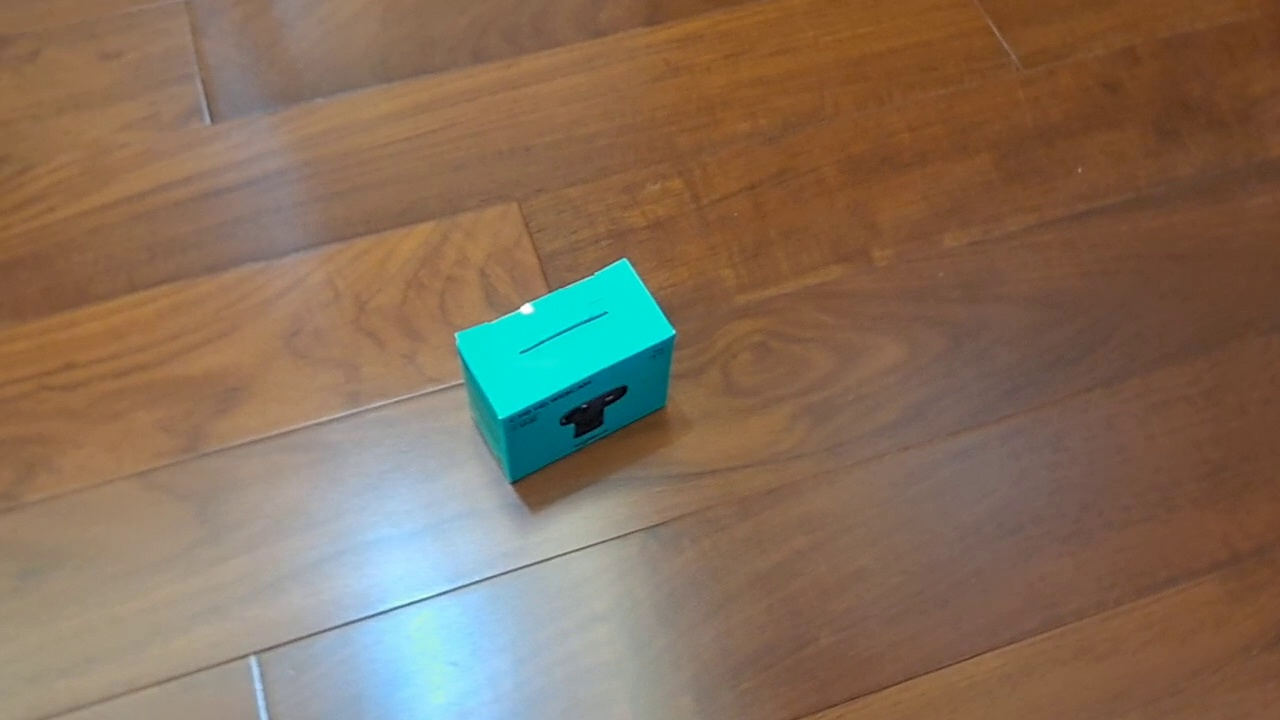webcam: (454, 255, 677, 485)
